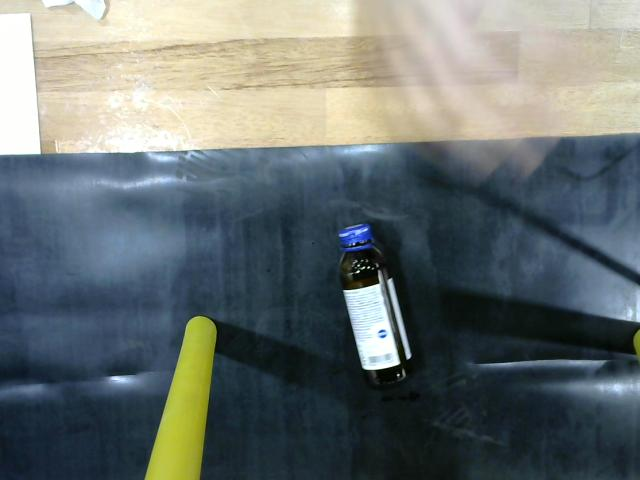glass: (329, 214, 436, 403)
